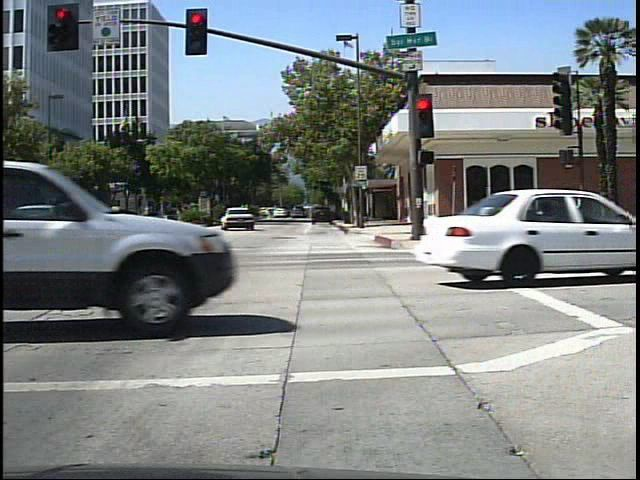person: (263, 205, 275, 224)
